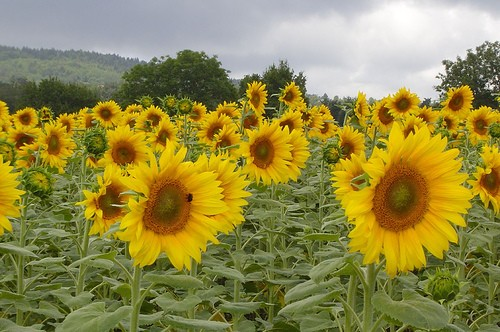flower: (328, 125, 474, 279), (112, 139, 229, 273), (229, 118, 298, 188)
